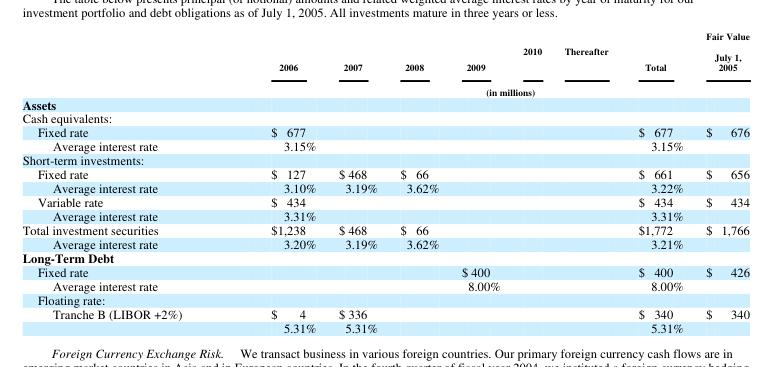table: (21, 28, 748, 335)
table column: (21, 28, 225, 335), (225, 28, 326, 335), (622, 28, 694, 335), (552, 28, 622, 335), (326, 28, 388, 335), (449, 28, 511, 335), (388, 28, 449, 335), (694, 28, 748, 335), (511, 28, 552, 335)
table column header: (21, 28, 748, 96)
table projected row header: (21, 96, 748, 110), (21, 110, 748, 124), (21, 152, 748, 166), (21, 250, 748, 264), (21, 292, 748, 306)
table row: (21, 28, 748, 79), (21, 79, 748, 96), (21, 320, 748, 335), (21, 96, 748, 110), (21, 110, 748, 124), (21, 124, 748, 138), (21, 138, 748, 152), (21, 152, 748, 166), (21, 166, 748, 180), (21, 180, 748, 194), (21, 194, 748, 208), (21, 208, 748, 222), (21, 222, 748, 236), (21, 236, 748, 250), (21, 250, 748, 264), (21, 264, 748, 278), (21, 278, 748, 292), (21, 292, 748, 306), (21, 306, 748, 320)
table spanning cell: (225, 79, 748, 96)
